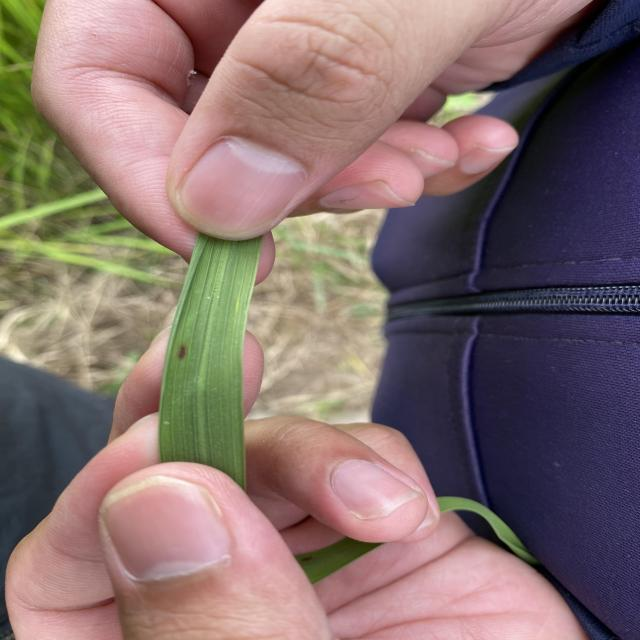Dom nau: (175, 339, 189, 360)
